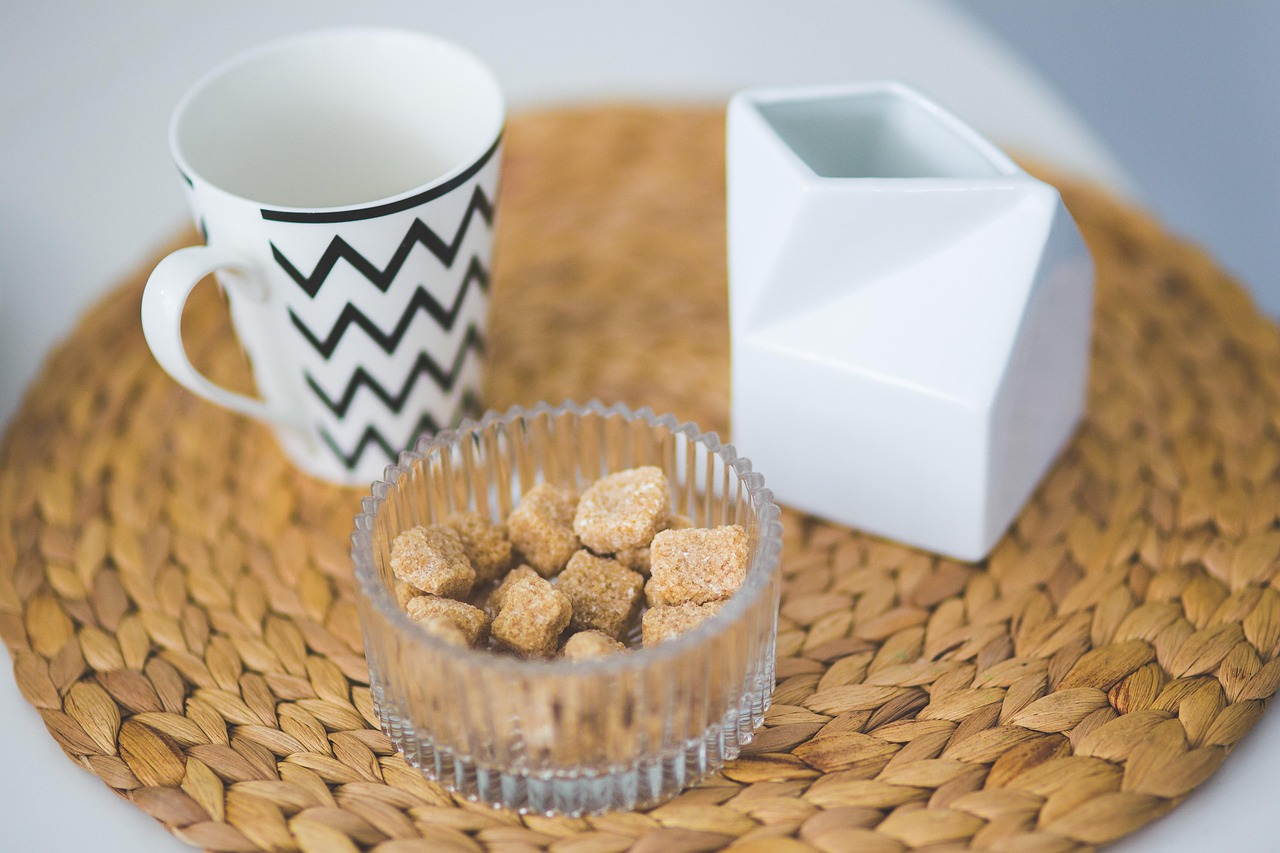mug: (134, 22, 535, 520)
